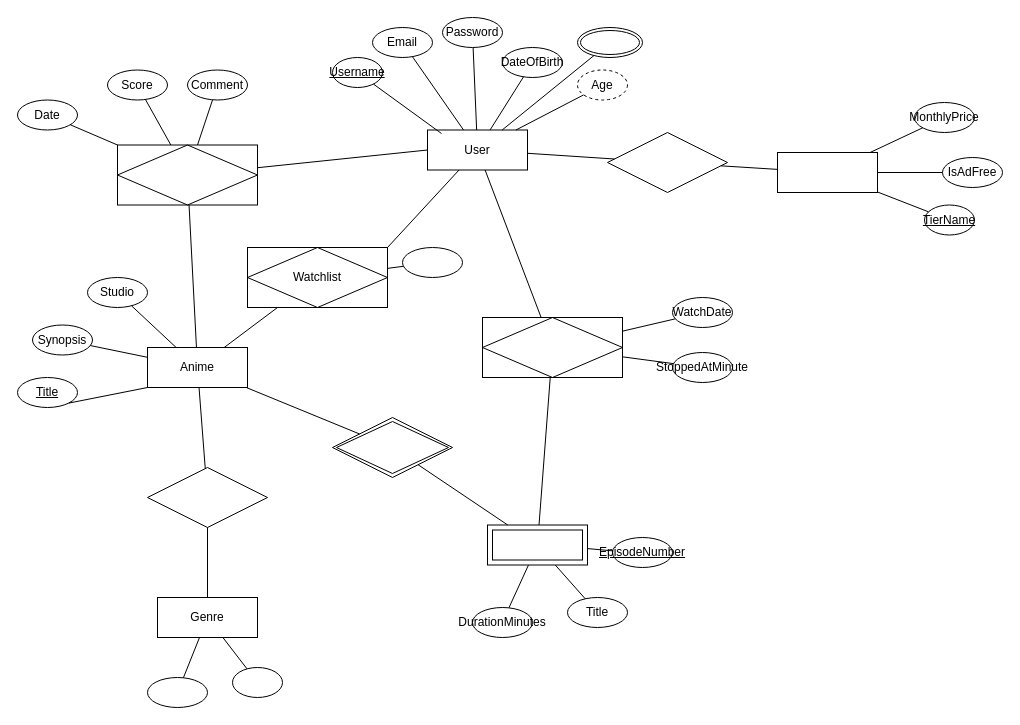
The diagram is 1020 pixels wide and 725 high, and some of its shapes have lost their labels. Each missing label, with the centre of its shape:
"AvailableDevices" belongs at (609,42).
"Chooses" belongs at (667,162).
"Contains" belongs at (392,447).
"DateAdded" belongs at (432,262).
"Description" belongs at (177,692).
"Episode" belongs at (537,544).
"Has" belongs at (207,497).
"Name" belongs at (257,682).
"Review" belongs at (187,174).
"Subscription" belongs at (827,172).
"WatchHistory" belongs at (552,347).
